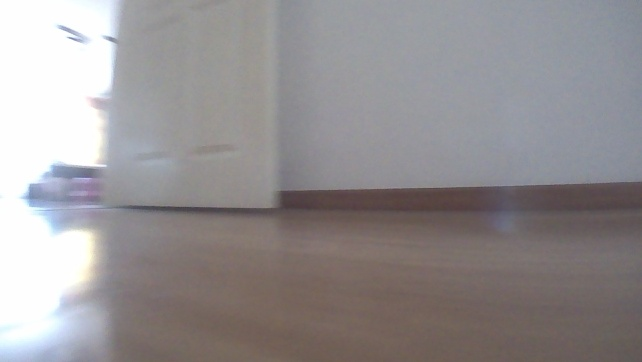door_anno: (97, 0, 285, 213)
